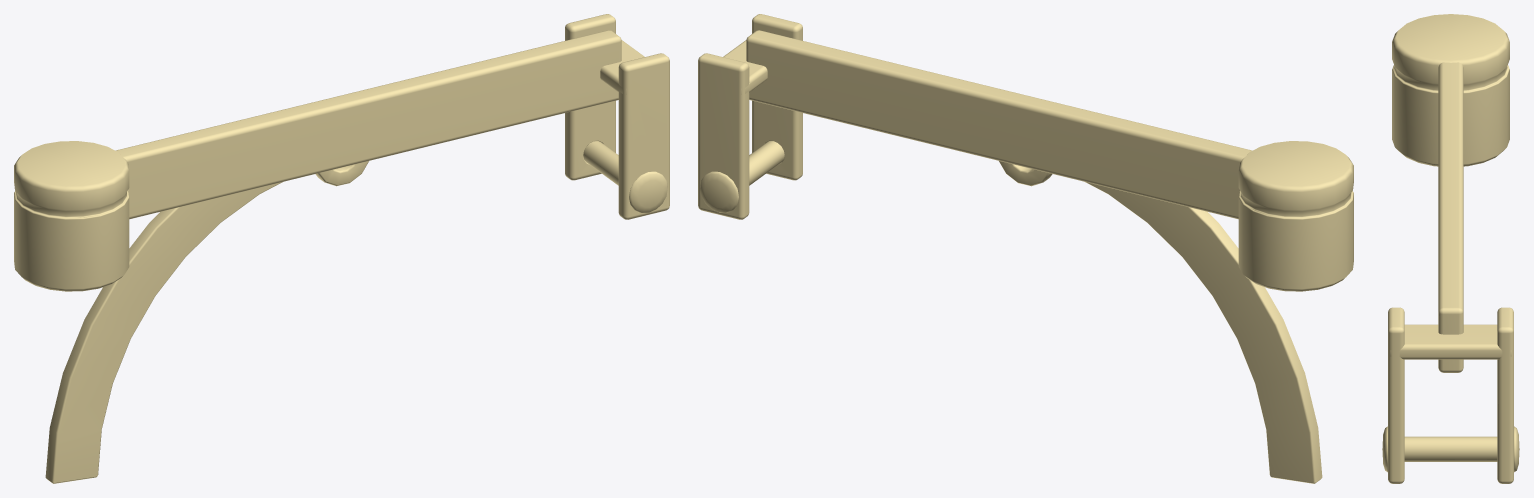
3 views of the same model, side by side, from view 1: azimuth 30°, elevation 25°; view 2: azimuth 150°, elevation 25°; view 3: azimuth 270°, elevation 25° (orthographic).
Visible parts, largest first — view 1: Fixed / Polished pale brass, Yoke cheek, Yoke cheek.001; view 2: Fixed / Polished pale brass, Yoke cheek.001, Yoke cheek; view 3: Fixed / Polished pale brass, Yoke cheek, Yoke cheek.001.
Boxes of the visible parts, bbox=[...] form: Fixed / Polished pale brass: bbox=[14, 30, 667, 483]; Yoke cheek: bbox=[618, 53, 669, 219]; Yoke cheek.001: bbox=[565, 14, 615, 180]; Fixed / Polished pale brass: bbox=[700, 30, 1353, 483]; Yoke cheek.001: bbox=[698, 53, 749, 219]; Yoke cheek: bbox=[752, 14, 802, 180]; Fixed / Polished pale brass: bbox=[1382, 14, 1519, 472]; Yoke cheek: bbox=[1388, 307, 1404, 483]; Yoke cheek.001: bbox=[1497, 307, 1513, 483].
Bounding box in the file's own units: 0.0864 × 0.0423 × 0.0163.
